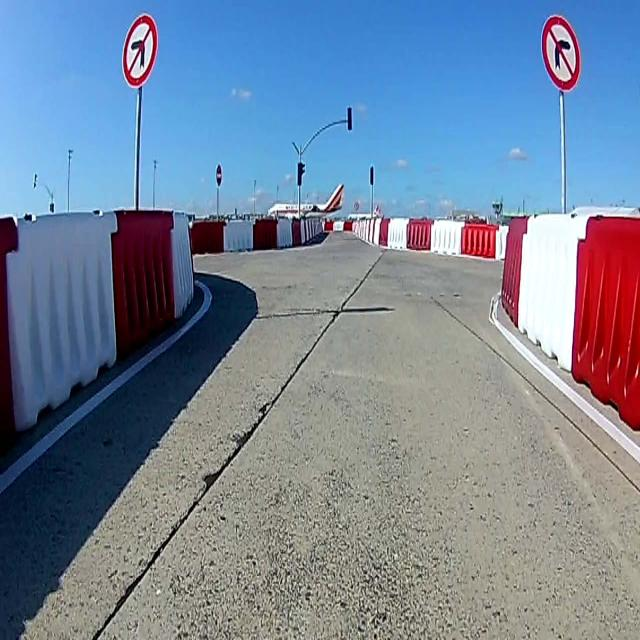sagadonulmez: (540, 15, 582, 92)
soladonulmez: (120, 9, 158, 87)
